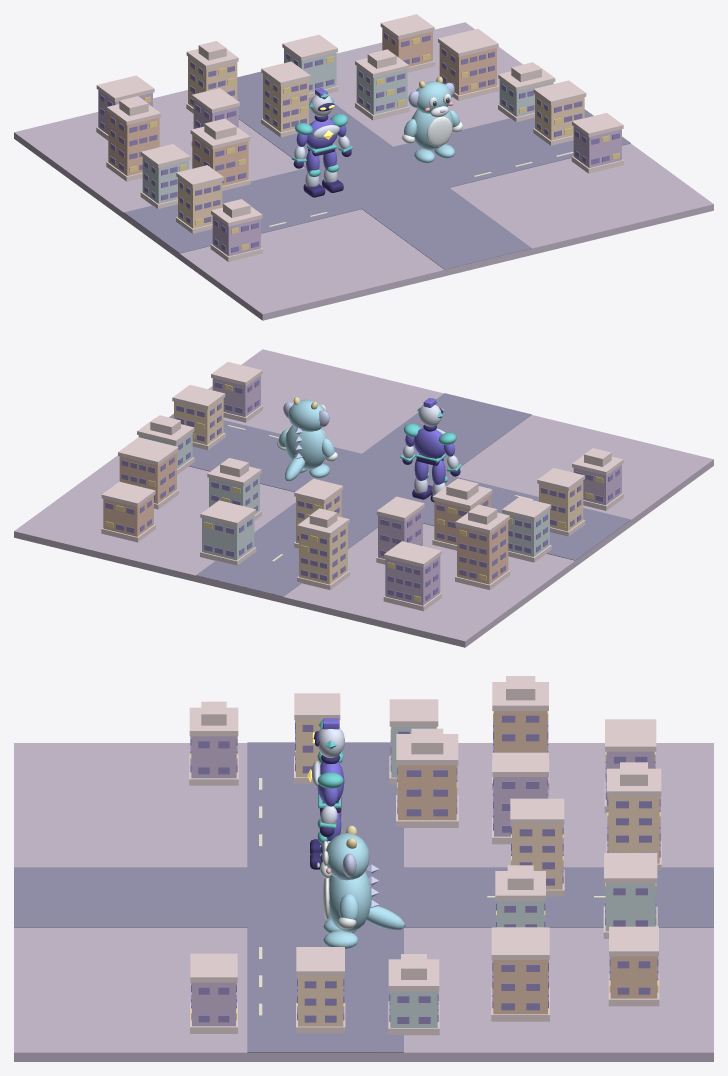
The model's file is star-cloud-sunset.glb.
3 views of the same model, one above another, from view 1: azimuth 30°, elevation 25°; view 2: azimuth 150°, elevation 25°; view 3: azimuth 270°, elevation 25° (orthographic). The views are drawn at different scales.
Parts seen in each view (by area): view 1: Ground, CentralRoad, CrossRoad, BuildingModule_05, BuildingModule_01, BuildingModule_04, BuildingModule_13, BuildingModule_03, BuildingModule_15, BuildingModule_10, BuildingModule_14, BuildingModule_11 (+10 smaller); view 2: Ground, CentralRoad, CrossRoad, BuildingModule_01, BuildingModule_07, BuildingModule_06, BuildingModule_08, BuildingModule_05, BuildingModule_09, BuildingModule_12, BuildingModule_15, BuildingModule_11 (+10 smaller); view 3: Ground, CentralRoad, CrossRoad, BuildingModule_13, BuildingModule_05, BuildingModule_07, BuildingModule_03, BuildingModule_15, BuildingModule_01, BuildingModule_09, BuildingModule_16, BuildingModule_10 (+11 smaller).
Part boxes in pixels (bbox=[...]): Ground: bbox=[14, 22, 713, 320]; CentralRoad: bbox=[124, 109, 630, 253]; CrossRoad: bbox=[237, 71, 531, 269]; BuildingModule_05: bbox=[438, 29, 498, 100]; BuildingModule_01: bbox=[106, 96, 161, 181]; BuildingModule_04: bbox=[355, 49, 409, 120]; BuildingModule_13: bbox=[190, 118, 250, 190]; BuildingModule_03: bbox=[261, 61, 310, 137]; BuildingModule_15: bbox=[533, 80, 586, 145]; BuildingModule_10: bbox=[210, 199, 262, 261]; BuildingModule_14: bbox=[571, 113, 623, 173]; BuildingModule_11: bbox=[176, 165, 223, 233]; Ground: bbox=[14, 349, 713, 647]; CentralRoad: bbox=[169, 414, 630, 560]; CrossRoad: bbox=[196, 393, 531, 596]; BuildingModule_01: bbox=[455, 504, 510, 589]; BuildingModule_07: bbox=[297, 508, 349, 589]; BuildingModule_06: bbox=[383, 541, 441, 611]; BuildingModule_08: bbox=[200, 500, 256, 565]; BuildingModule_05: bbox=[118, 437, 178, 509]; BuildingModule_09: bbox=[101, 481, 155, 542]; BuildingModule_12: bbox=[502, 497, 551, 562]; BuildingModule_15: bbox=[172, 385, 225, 450]; BuildingModule_11: bbox=[537, 468, 585, 536]; Ground: bbox=[14, 743, 713, 1061]; CentralRoad: bbox=[247, 742, 403, 1052]; CrossRoad: bbox=[14, 867, 713, 927]; BuildingModule_13: bbox=[396, 728, 458, 827]; BuildingModule_05: bbox=[491, 927, 549, 1021]; BuildingModule_07: bbox=[606, 762, 661, 870]; BuildingModule_03: bbox=[510, 798, 564, 896]; BuildingModule_15: bbox=[296, 947, 345, 1033]; BuildingModule_01: bbox=[492, 676, 549, 789]; BuildingModule_09: bbox=[608, 926, 659, 1006]; BuildingModule_16: bbox=[388, 954, 439, 1035]; BuildingModule_10: bbox=[189, 701, 238, 785].
Size of the model in its own units: 22 by 4.93 by 21.
